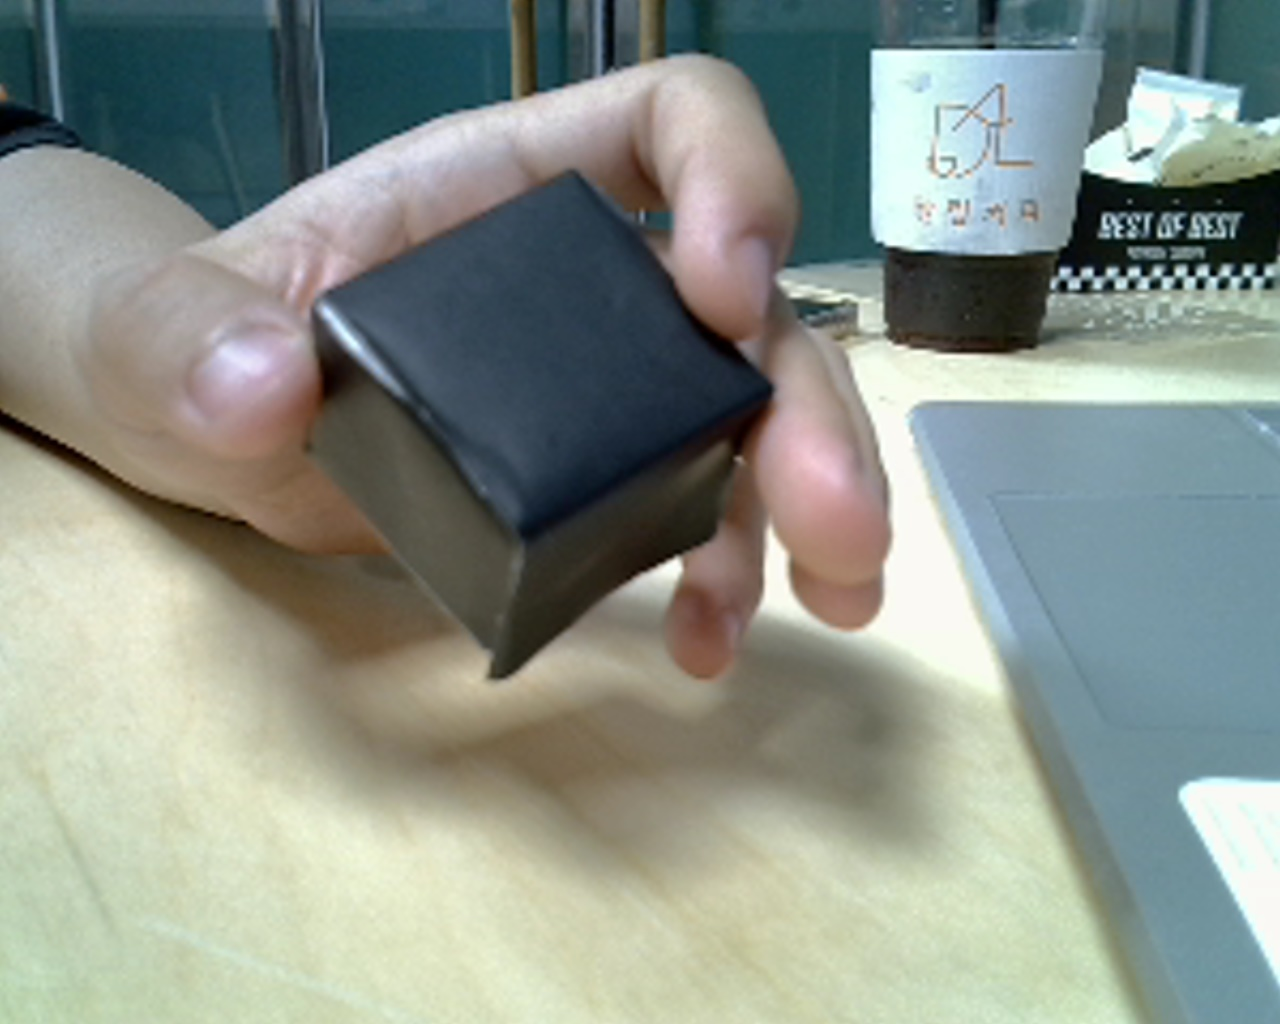blackbox: (274, 147, 811, 681)
